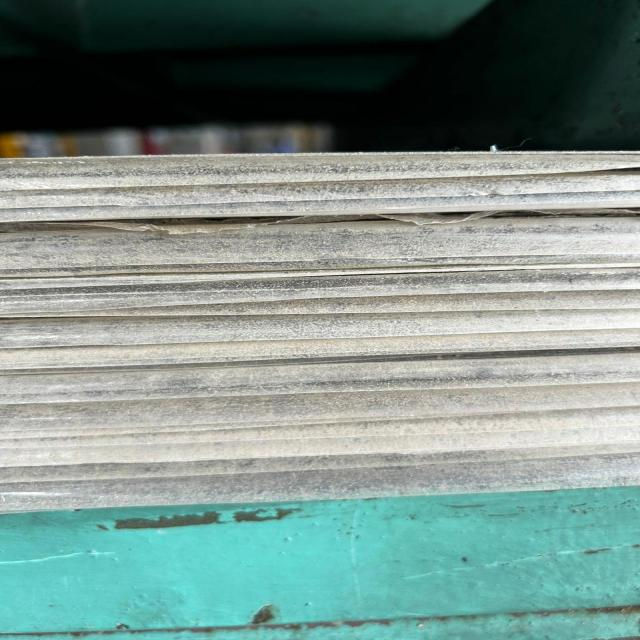sheet: (0, 466, 640, 512), (0, 227, 640, 268), (0, 340, 640, 377), (0, 314, 637, 343), (0, 466, 617, 493), (4, 156, 638, 182), (13, 428, 638, 454), (4, 198, 640, 222), (7, 292, 631, 315), (2, 396, 640, 418), (0, 372, 640, 390), (0, 268, 640, 285), (16, 445, 634, 460), (0, 187, 640, 200)
